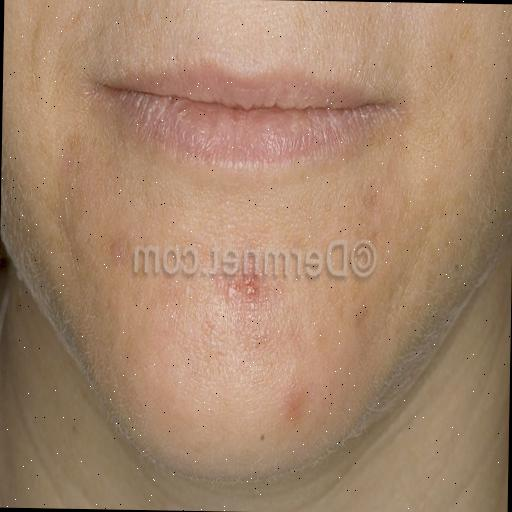Skin_Lesion: (217, 270, 264, 316), (281, 374, 313, 436), (102, 231, 132, 269)
